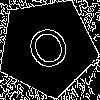O: (22, 22, 79, 82)
